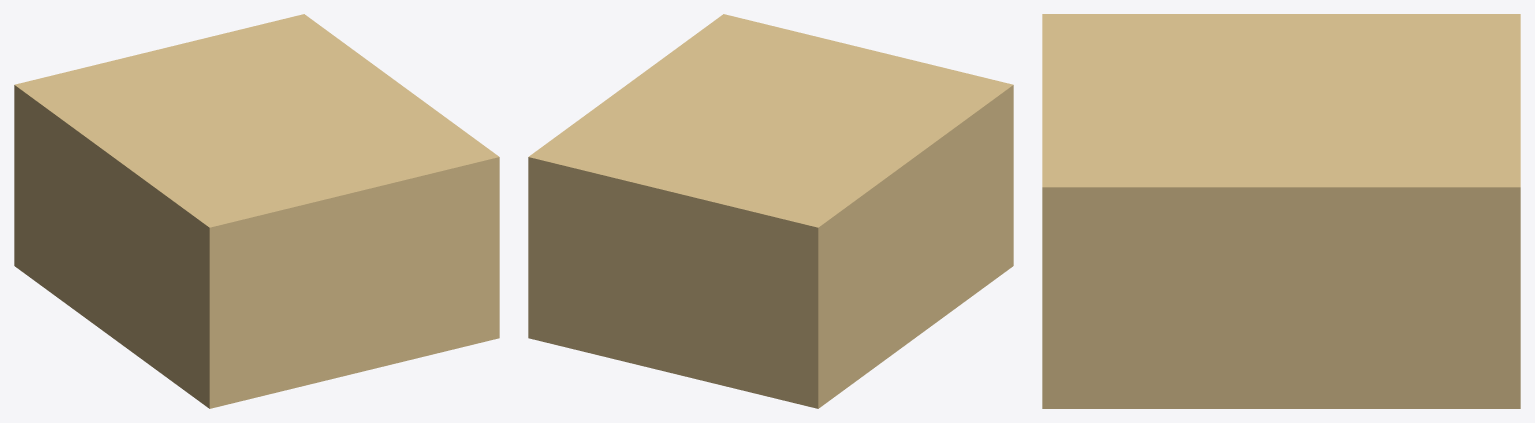
Rendered from gymnase.fbx.
The picture shows the model from 3 angles, left to right: view 1: azimuth 30°, elevation 25°; view 2: azimuth 150°, elevation 25°; view 3: azimuth 270°, elevation 25°; orthographic projection. The views are drawn at different scales.
Visible parts, largest first — view 1: Gymnase; view 2: Gymnase; view 3: Gymnase.
Boxes of the visible parts, bbox=[...] form: Gymnase: bbox=[14, 14, 499, 408]; Gymnase: bbox=[528, 14, 1013, 408]; Gymnase: bbox=[1042, 14, 1520, 408].
Size of the model in its own units: 7200 by 4300 by 8400.
